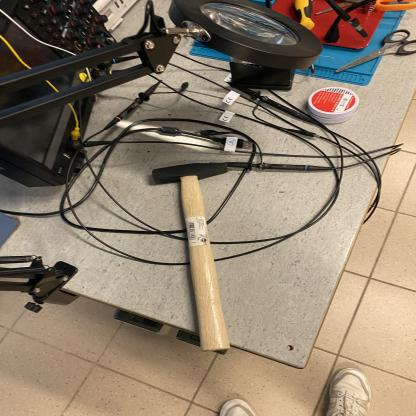Hammer: (149, 159, 238, 356)
